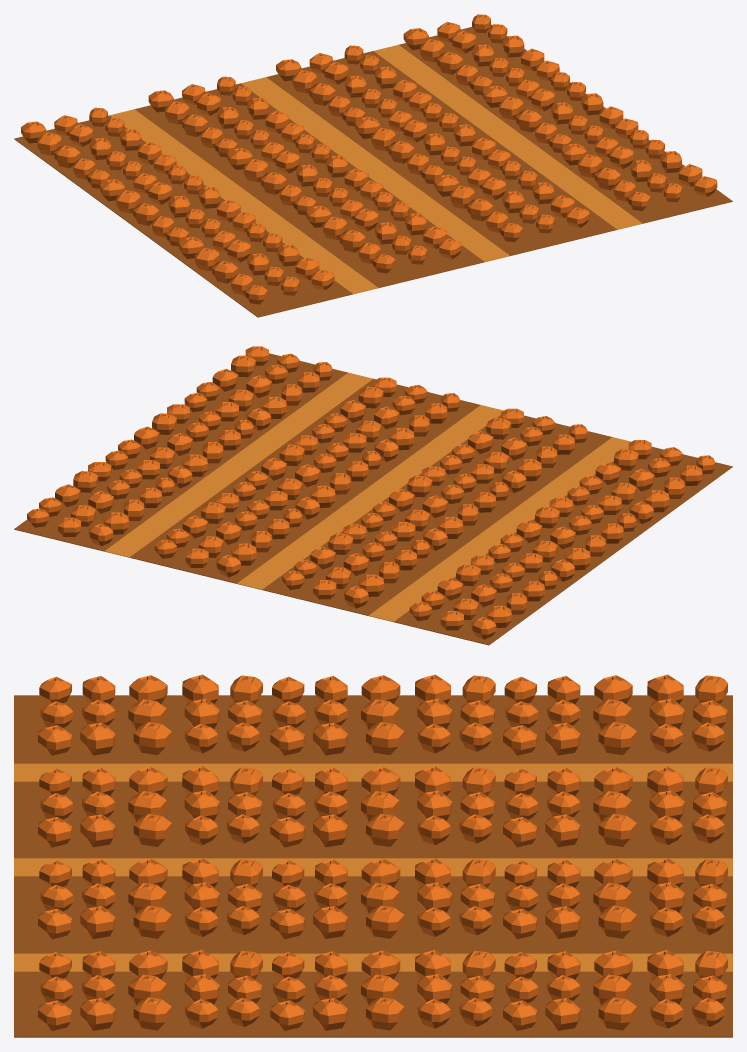
The model's file is pumpkin.fbx.
3 views of the same model, one above another, from view 1: azimuth 30°, elevation 25°; view 2: azimuth 150°, elevation 25°; view 3: azimuth 270°, elevation 25° (orthographic). The views are drawn at different scales.
Visible parts, largest first — view 1: tomates.001; view 2: tomates.001; view 3: tomates.001.
Boxes of the visible parts, x1=… form: tomates.001: x1=14, y1=14, x2=732, y2=317; tomates.001: x1=14, y1=346, x2=732, y2=645; tomates.001: x1=14, y1=674, x2=732, y2=1037.
Size of the model in its own units: 10.99 by 9.77 by 0.4294.
